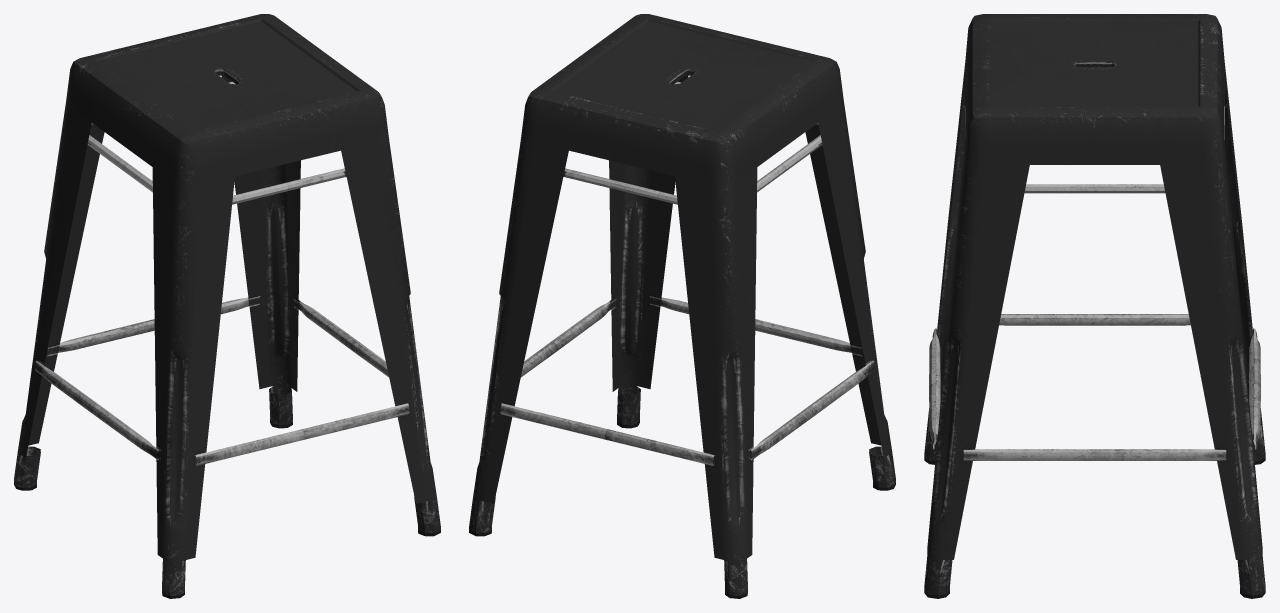
3 renders of one model, left to right at view 1: azimuth 30°, elevation 25°; view 2: azimuth 150°, elevation 25°; view 3: azimuth 270°, elevation 25°, orthographic. The views are drawn at different scales.
Visible parts, largest first — view 1: SM_Stool_2_Low; view 2: SM_Stool_2_Low; view 3: SM_Stool_2_Low.
Part boxes in pixels (box(x1,y1,x2,y2)): SM_Stool_2_Low: box(14, 14, 440, 598); SM_Stool_2_Low: box(469, 14, 895, 598); SM_Stool_2_Low: box(924, 14, 1265, 598).
Bounding box in the file's own units: 48.91 × 73.39 × 48.89.
1 material, 1 textured.
